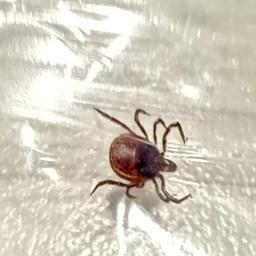Ixodes scapularis: (89, 107, 193, 203)
